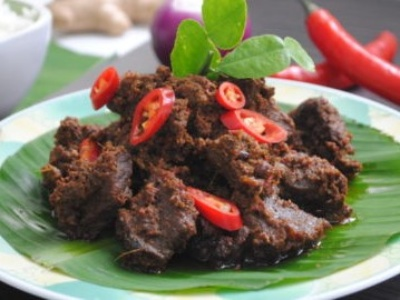rendang: (68, 81, 323, 256)
